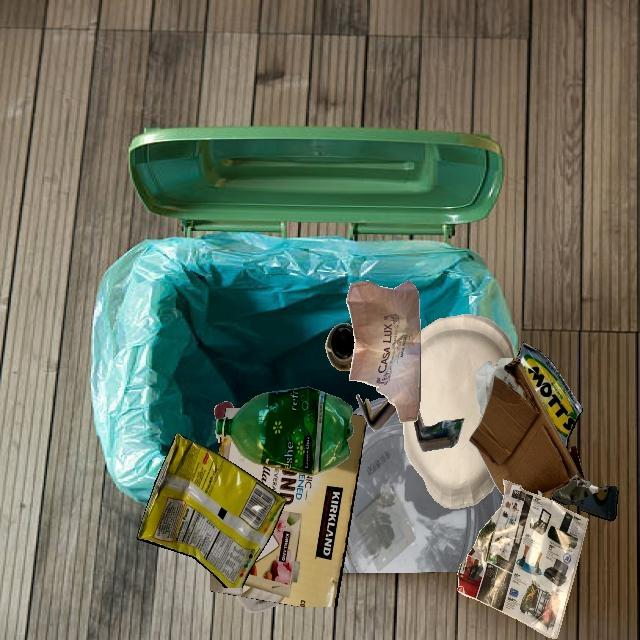cardboard: (210, 414, 367, 607), (469, 358, 590, 500), (414, 409, 464, 451), (356, 394, 397, 431)
glass: (325, 323, 355, 371)
paper: (404, 314, 515, 509), (457, 479, 588, 639), (346, 280, 421, 422)
plastic: (342, 422, 502, 573), (215, 387, 353, 476), (221, 408, 249, 598), (249, 598, 280, 613), (214, 402, 233, 423)
trash: (137, 433, 287, 588), (499, 358, 598, 504), (515, 342, 583, 440)
